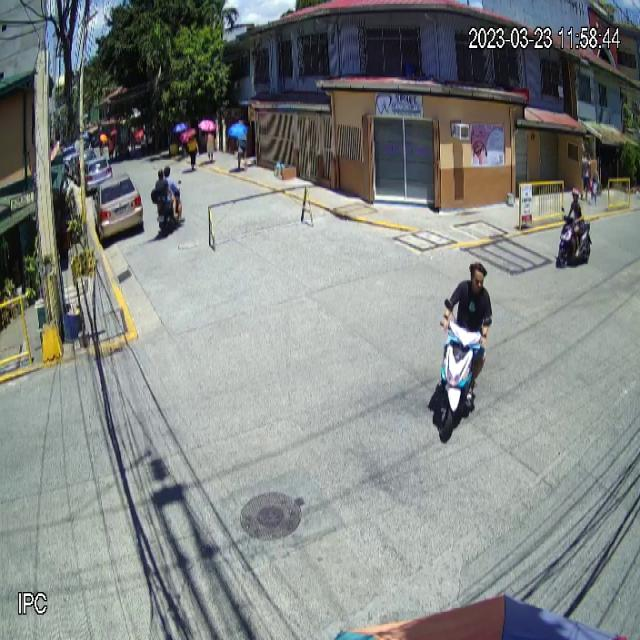Motorcycle: (436, 296, 493, 443)
